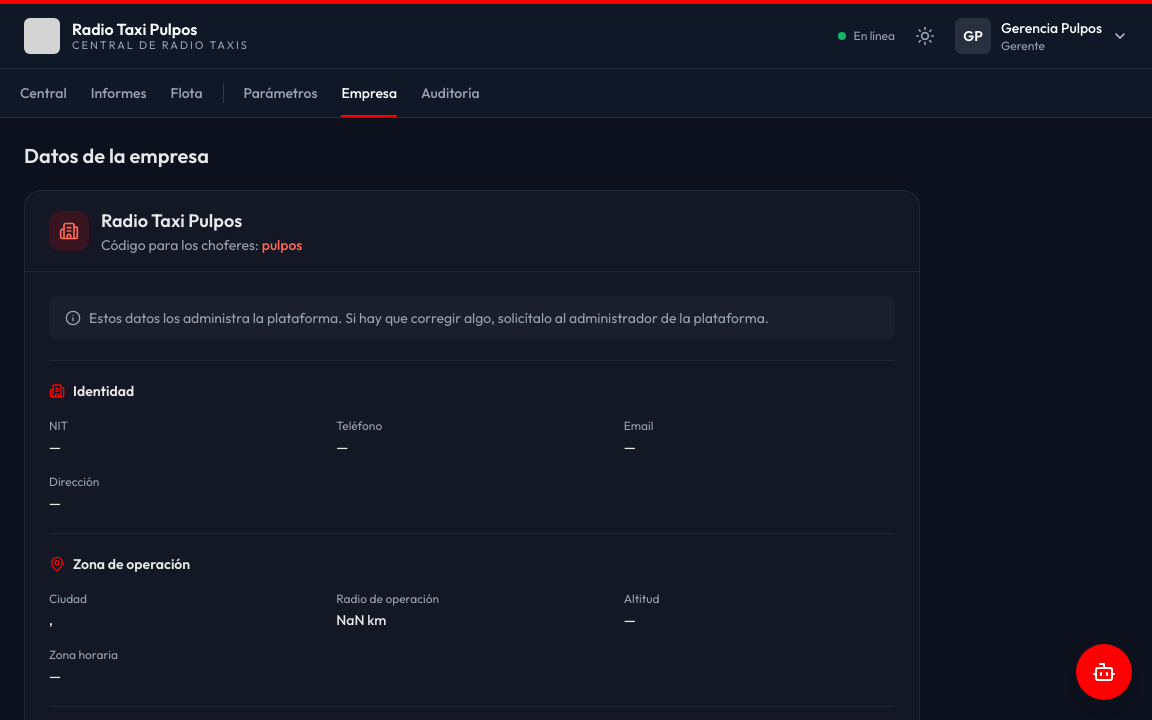
Test: App › cerrar sesión desde el menú borra el token
This screenshot has width=1152, height=720.
Step 1. Click the button "GP Gerencia Pulpos Gerente" → click(1042, 36), box [955,18,1128,54]
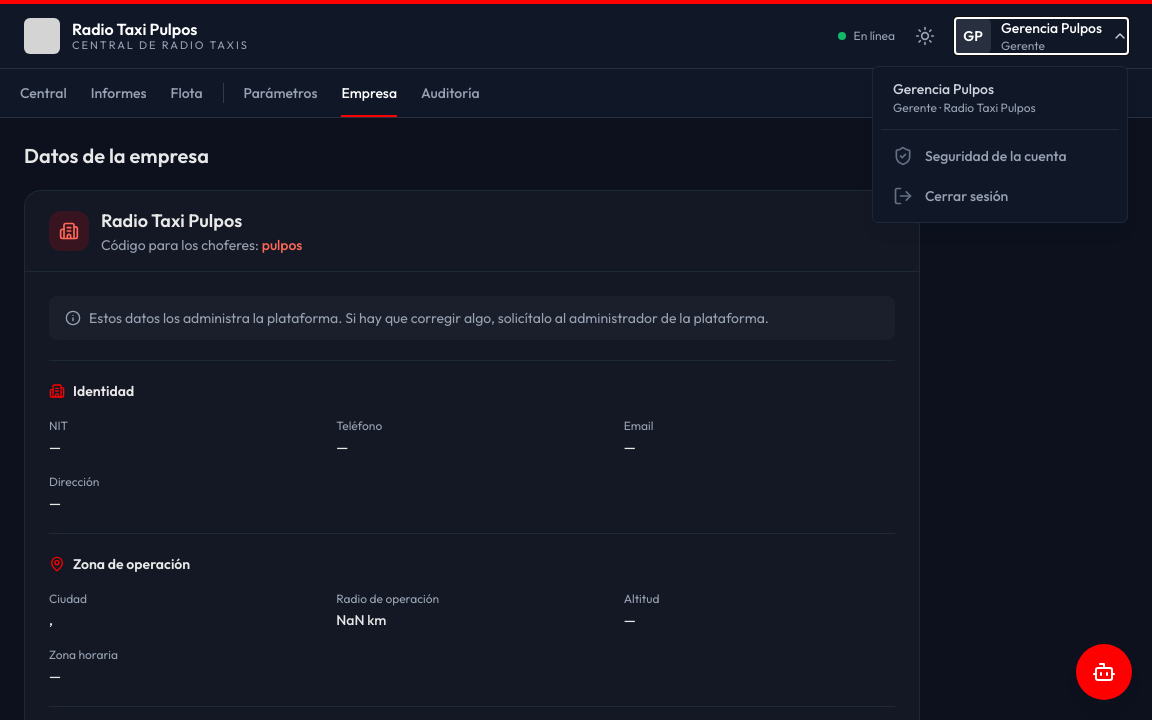
Step 2. Click the menu item "Cerrar sesión" → click(1000, 196), box [881,178,1119,214]
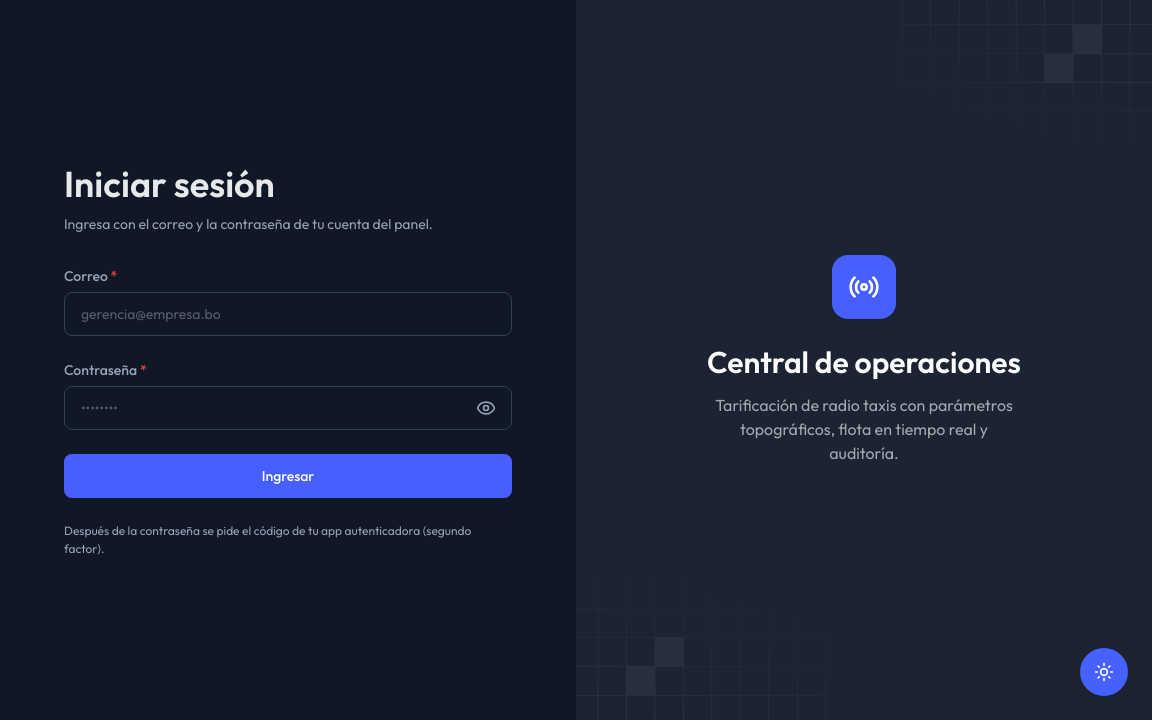
Expected: the heading "Iniciar sesión" is shown, [64,161,275,206]
